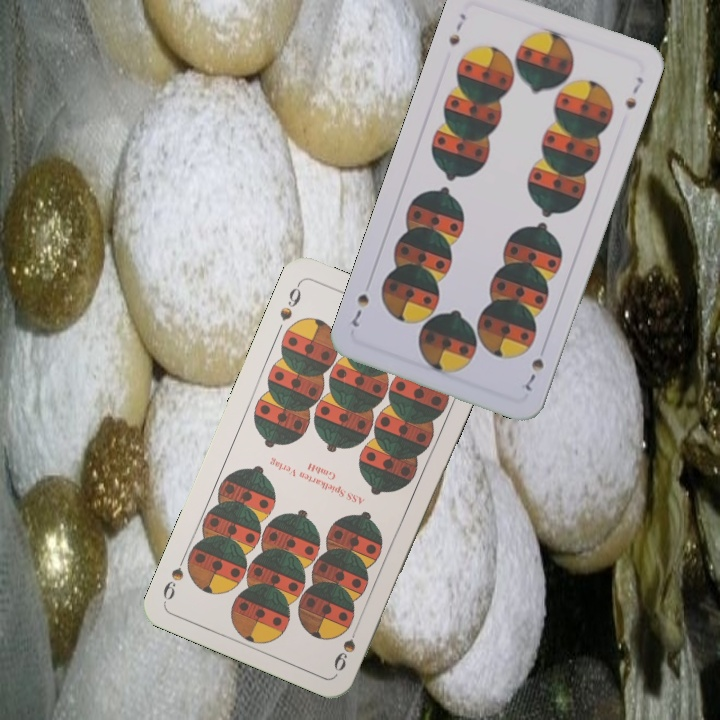S7: (517, 354, 547, 394), (444, 9, 469, 48)
S9: (329, 618, 362, 674), (275, 279, 304, 323)
